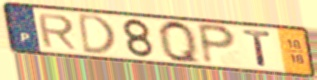8: (121, 17, 157, 60)
D: (76, 12, 118, 56)
P: (195, 21, 239, 67)
Q: (156, 18, 204, 67)
R: (35, 12, 80, 51)
T: (241, 28, 274, 68)
